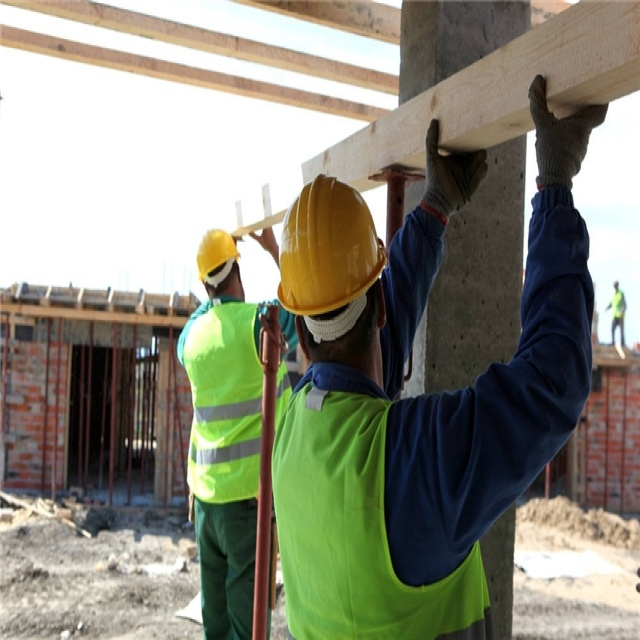Helmet: (267, 170, 404, 403), (184, 220, 258, 320)
Reflective vest: (271, 384, 495, 640), (181, 303, 293, 506)
